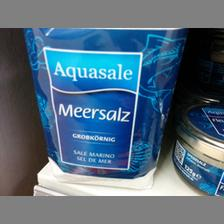Gewuerze: (23, 28, 186, 178)
